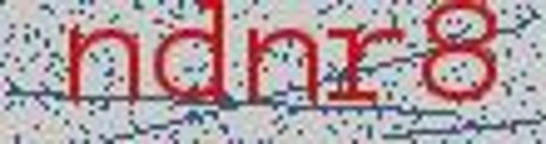8: (415, 1, 508, 107)
d: (148, 1, 234, 119)
n: (52, 11, 148, 118), (239, 13, 320, 116)
r: (324, 14, 407, 118)
